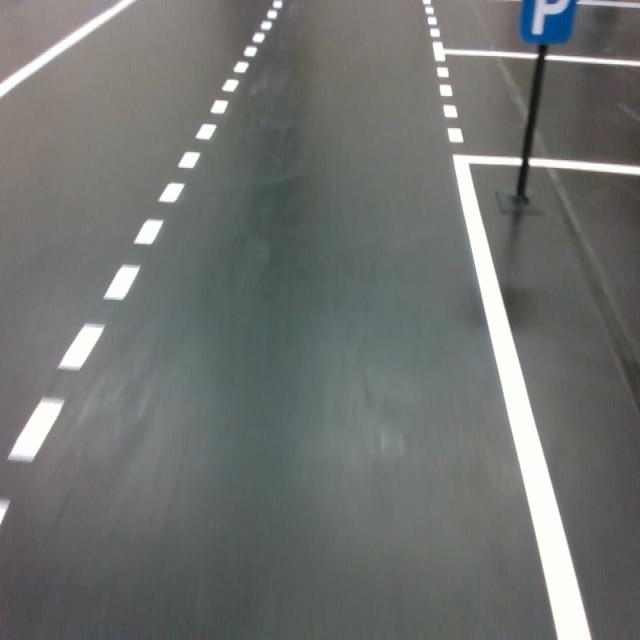parking-sign: (518, 0, 577, 46)
